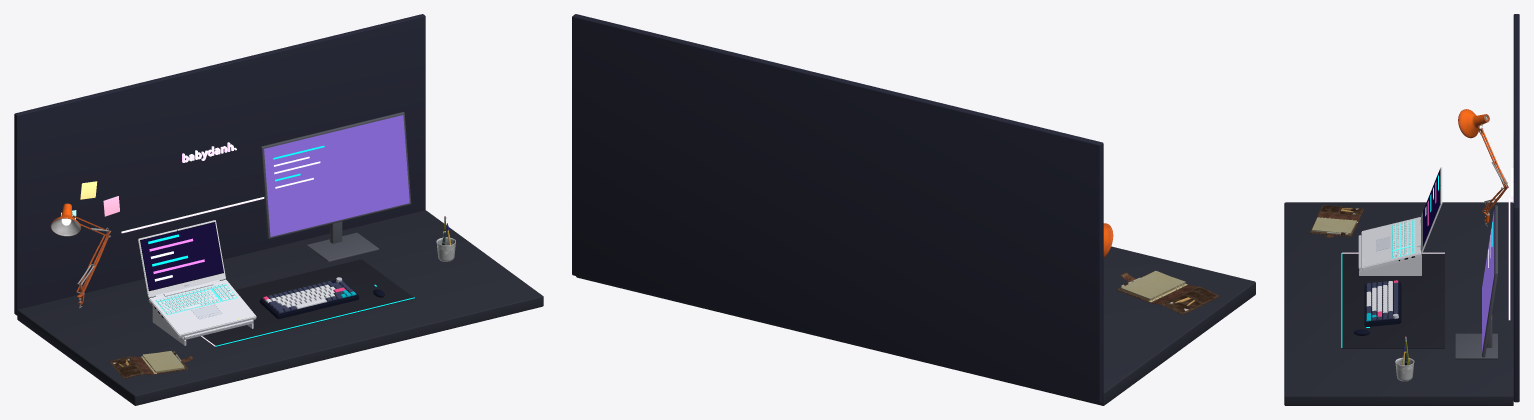
File: desk.glb
The picture shows the model from 3 angles, left to right: view 1: azimuth 30°, elevation 25°; view 2: azimuth 150°, elevation 25°; view 3: azimuth 270°, elevation 25°; orthographic projection. The views are drawn at different scales.
Parts seen in each view (by area): view 1: wall, desk, mon_screen, deskmat, lt_display, lt_base, binder_notebook, mon_back, mon_base, lt_keys, lt_lid, kb_caps_a (+4 smaller); view 2: wall, desk, binder_notebook; view 3: desk, deskmat, wall, lt_base, binder_notebook, mon_base, mon_screen, lt_keys, st_side_1, kb_case, kb_caps_a, mon_back (+7 smaller).
Boxes of the visible parts, left/top/right/bottom form: wall: left=14, top=14, right=425, bottom=315; desk: left=17, top=210, right=543, bottom=405; mon_screen: left=264, top=115, right=409, bottom=236; deskmat: left=202, top=259, right=414, bottom=347; lt_display: left=140, top=222, right=223, bottom=290; lt_base: left=148, top=279, right=256, bottom=337; binder_notebook: left=110, top=351, right=193, bottom=378; mon_back: left=260, top=112, right=411, bottom=238; mon_base: left=306, top=232, right=379, bottom=262; lt_keys: left=156, top=283, right=236, bottom=314; lt_lid: left=138, top=220, right=225, bottom=297; kb_caps_a: left=265, top=284, right=335, bottom=309; wall: left=572, top=14, right=1103, bottom=403; desk: left=576, top=246, right=1255, bottom=405; binder_notebook: left=1117, top=270, right=1218, bottom=314; desk: left=1284, top=202, right=1513, bottom=405; deskmat: left=1342, top=253, right=1444, bottom=348; wall: left=1513, top=14, right=1519, bottom=402; lt_base: left=1361, top=217, right=1421, bottom=270; binder_notebook: left=1310, top=205, right=1364, bottom=237; mon_base: left=1455, top=333, right=1497, bottom=359; mon_screen: left=1482, top=210, right=1494, bottom=352; lt_keys: left=1392, top=219, right=1414, bottom=257; st_side_1: left=1359, top=256, right=1421, bottom=275; kb_case: left=1364, top=281, right=1401, bottom=326; kb_caps_a: left=1366, top=281, right=1392, bottom=313; mon_back: left=1482, top=205, right=1497, bottom=357.
Size of the model in its own units: 1.6 by 0.765 by 0.82.
Materials: 38 (6 with a texture image).
